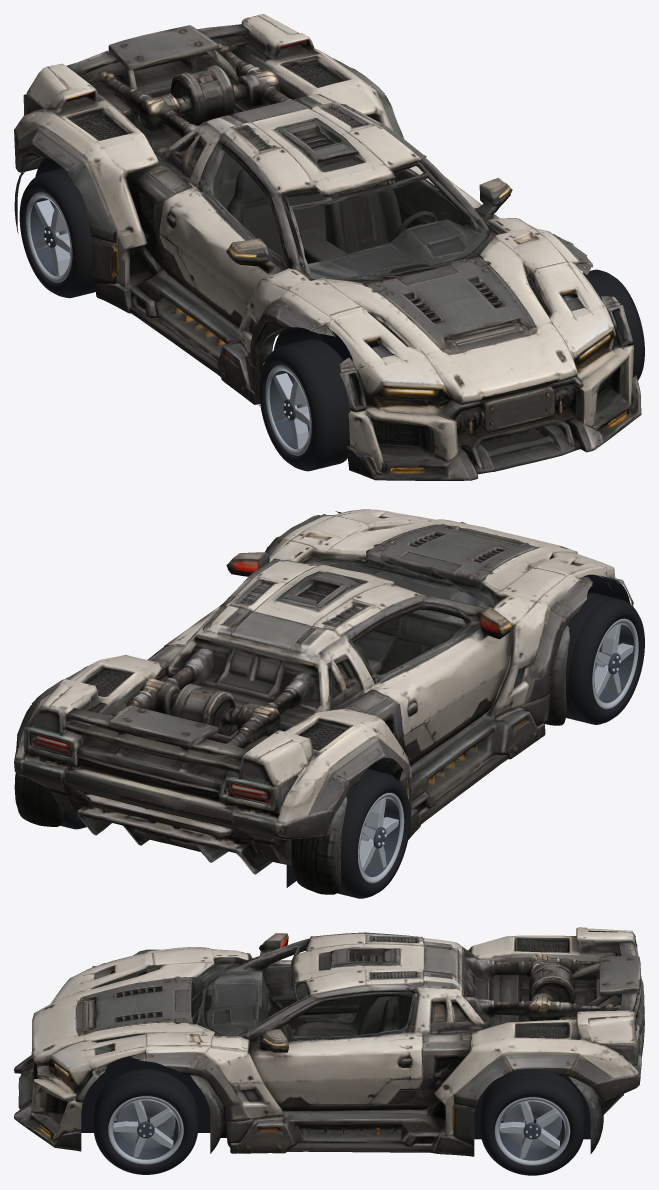
The model's file is bastion.glb.
3 views of the same model, one above another, from view 1: azimuth 30°, elevation 25°; view 2: azimuth 150°, elevation 25°; view 3: azimuth 270°, elevation 25° (orthographic). The views are drawn at different scales.
Parts seen in each view (by area): view 1: chassis, wheel_front_left, wheel_rear_left, wheel_front_right, wheel_wells; view 2: chassis, wheel_front_left, wheel_rear_left, wheel_wells; view 3: chassis, wheel_rear_right, wheel_front_right, wheel_wells.
Boxes of the visible parts, <box> form: chassis: <box>14,14,641,480</box>; wheel_front_left: <box>259,339,359,471</box>; wheel_rear_left: <box>19,168,95,298</box>; wheel_front_right: <box>564,269,644,380</box>; wheel_wells: <box>35,157,382,405</box>; chassis: <box>14,509,633,894</box>; wheel_front_left: <box>565,592,644,724</box>; wheel_rear_left: <box>337,769,410,898</box>; wheel_wells: <box>286,511,630,887</box>; chassis: <box>14,927,644,1156</box>; wheel_rear_right: <box>480,1069,584,1175</box>; wheel_front_right: <box>93,1069,198,1174</box>; wheel_wells: <box>81,1048,590,1139</box>.
Size of the model in its own units: 2.31 by 1.27 by 4.6.
Materials: 2 (2 with a texture image).
